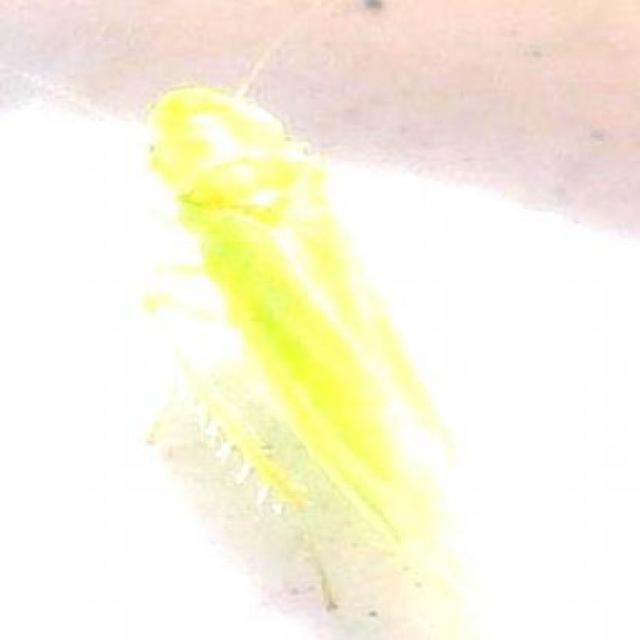green-leafhopper: (142, 83, 468, 563)
